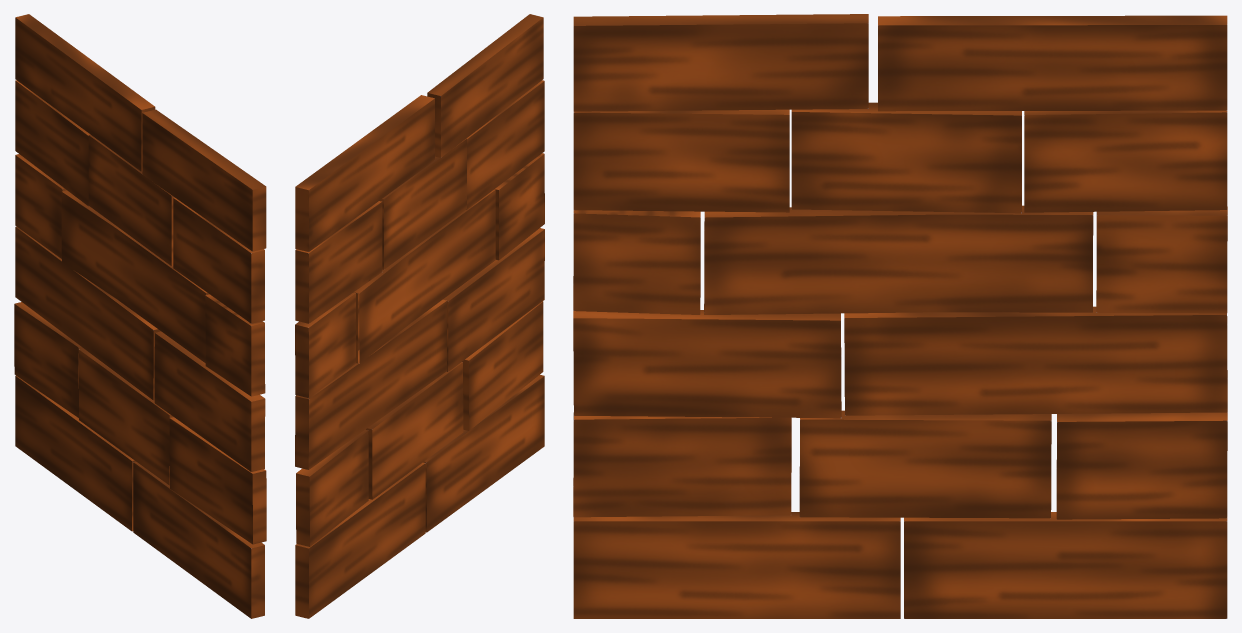
The model's file is parede madeira.fbx.
3 views of the same model, side by side, from view 1: azimuth 30°, elevation 25°; view 2: azimuth 150°, elevation 25°; view 3: azimuth 270°, elevation 25° (orthographic). The views are drawn at different scales.
Visible parts, largest first — view 1: PAREDE.001; view 2: PAREDE.001; view 3: PAREDE.001.
Part boxes in pixels (x1,y1,x2,y2): PAREDE.001: [14, 14, 266, 618]; PAREDE.001: [295, 14, 544, 618]; PAREDE.001: [573, 14, 1227, 618].
Bounding box in the file's own units: 10.44 × 200 × 200.
1 material, 1 textured.
